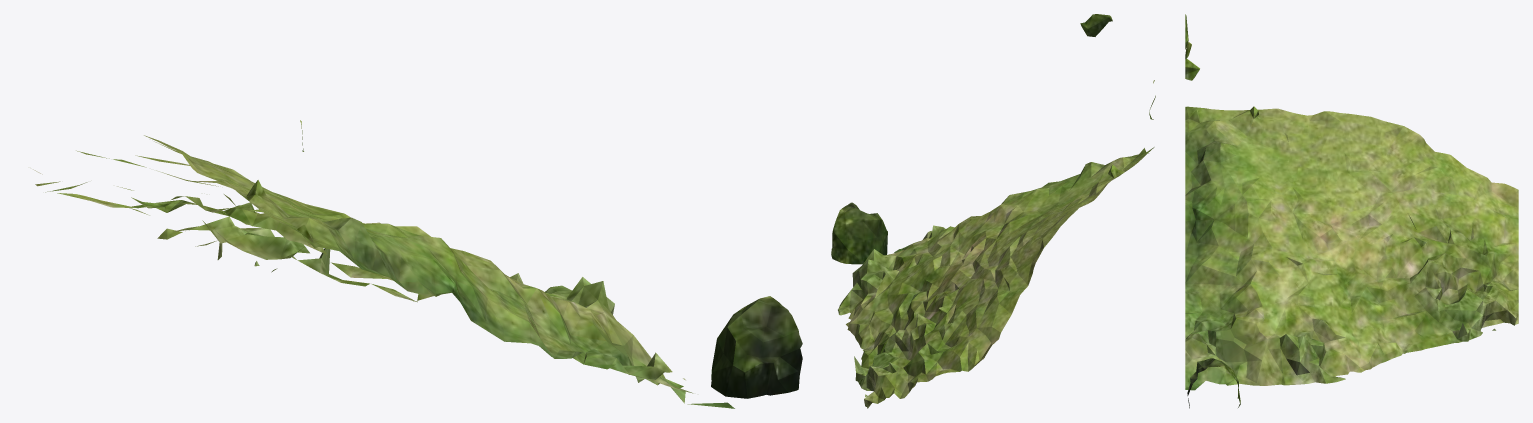
3 renders of one model, left to right at view 1: azimuth 30°, elevation 25°; view 2: azimuth 150°, elevation 25°; view 3: azimuth 270°, elevation 25°, orthographic. The views are drawn at different scales.
Bounding box in the file's own units: 26.11 × 23.91 × 26.11.
Materials: 3 (3 with a texture image).
